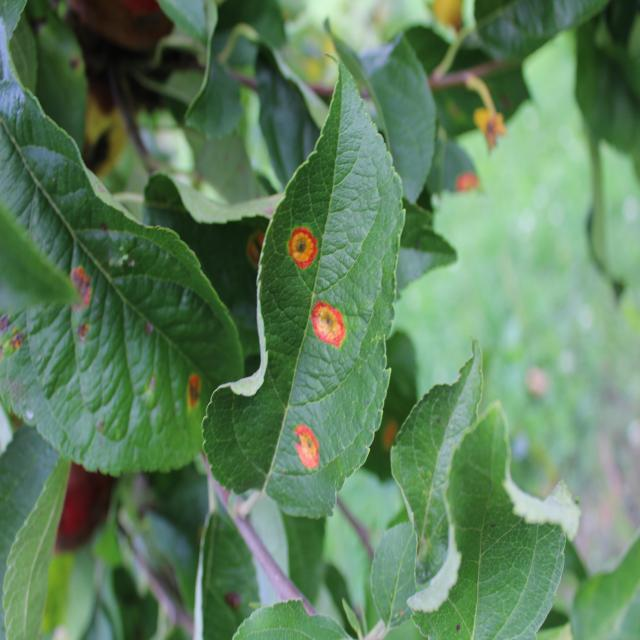rust: (0, 17, 244, 478), (201, 53, 406, 520)
